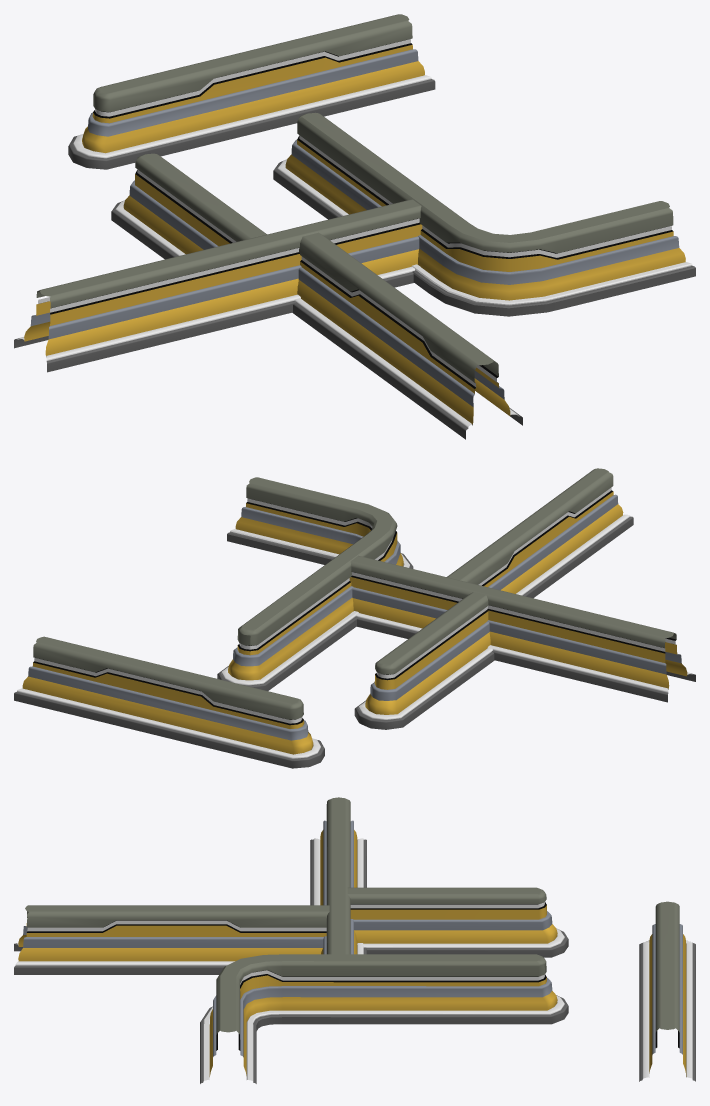
The model's file is Level10_Small_walls.fbx.
3 renders of one model, top to bottom at view 1: azimuth 30°, elevation 25°; view 2: azimuth 150°, elevation 25°; view 3: azimuth 270°, elevation 25°, orthographic. The views are drawn at different scales.
Visible parts, largest first — view 1: Small_wall_L2, Small_wallv1_9, Small_wallv2_6, Small_wallv1_10, Small_wallv2_7; view 2: Small_wallv1_9, Small_wallv2_6, Small_wall_L2, Small_wallv1_10, Small_wallv2_7; view 3: Small_wall_L2, Small_wallv1_10, Small_wallv2_7, Small_wallv1_9, Small_wallv2_6.
Part boxes in pixels (x1,y1,x2,y2): Small_wall_L2: (273,112,695,316); Small_wallv1_9: (68,14,435,169); Small_wallv2_6: (14,199,422,372); Small_wallv1_10: (292,232,522,439); Small_wallv2_7: (111,153,266,259); Small_wallv1_9: (14,636,324,768); Small_wallv2_6: (349,555,695,702); Small_wall_L2: (217,477,413,690); Small_wallv1_10: (447,468,633,598); Small_wallv2_7: (354,592,494,729); Small_wall_L2: (200,954,568,1083); Small_wallv1_10: (14,905,329,974); Small_wallv2_7: (347,887,568,957); Small_wallv1_9: (639,901,695,1081); Small_wallv2_6: (310,797,366,954).
Bounding box in the file's own units: 352 × 38.11 × 415.
